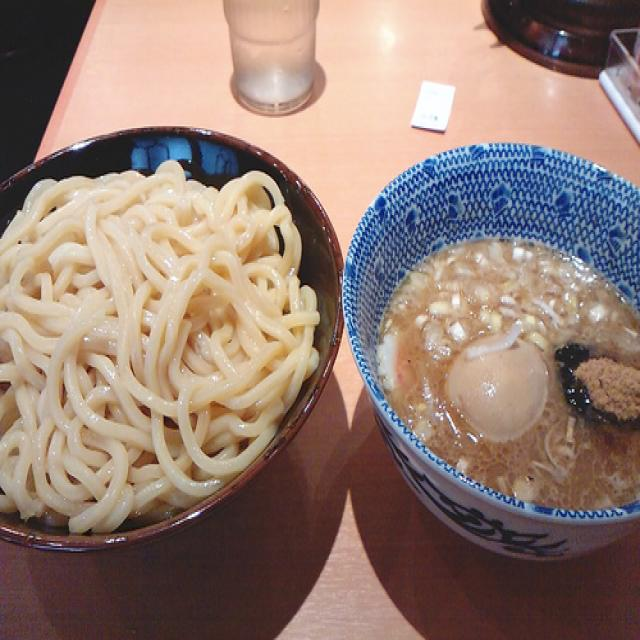面条主食: (0, 156, 637, 556)
